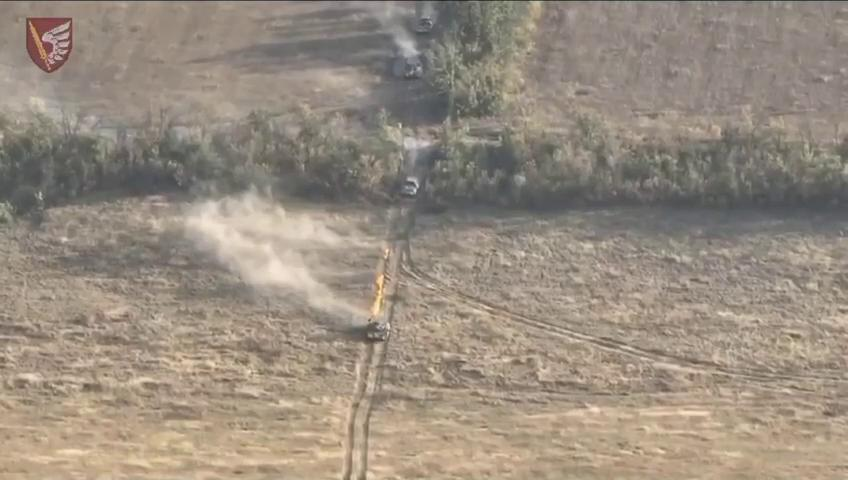tank: (364, 317, 393, 347), (401, 50, 425, 85), (396, 171, 423, 201), (411, 10, 434, 37)
